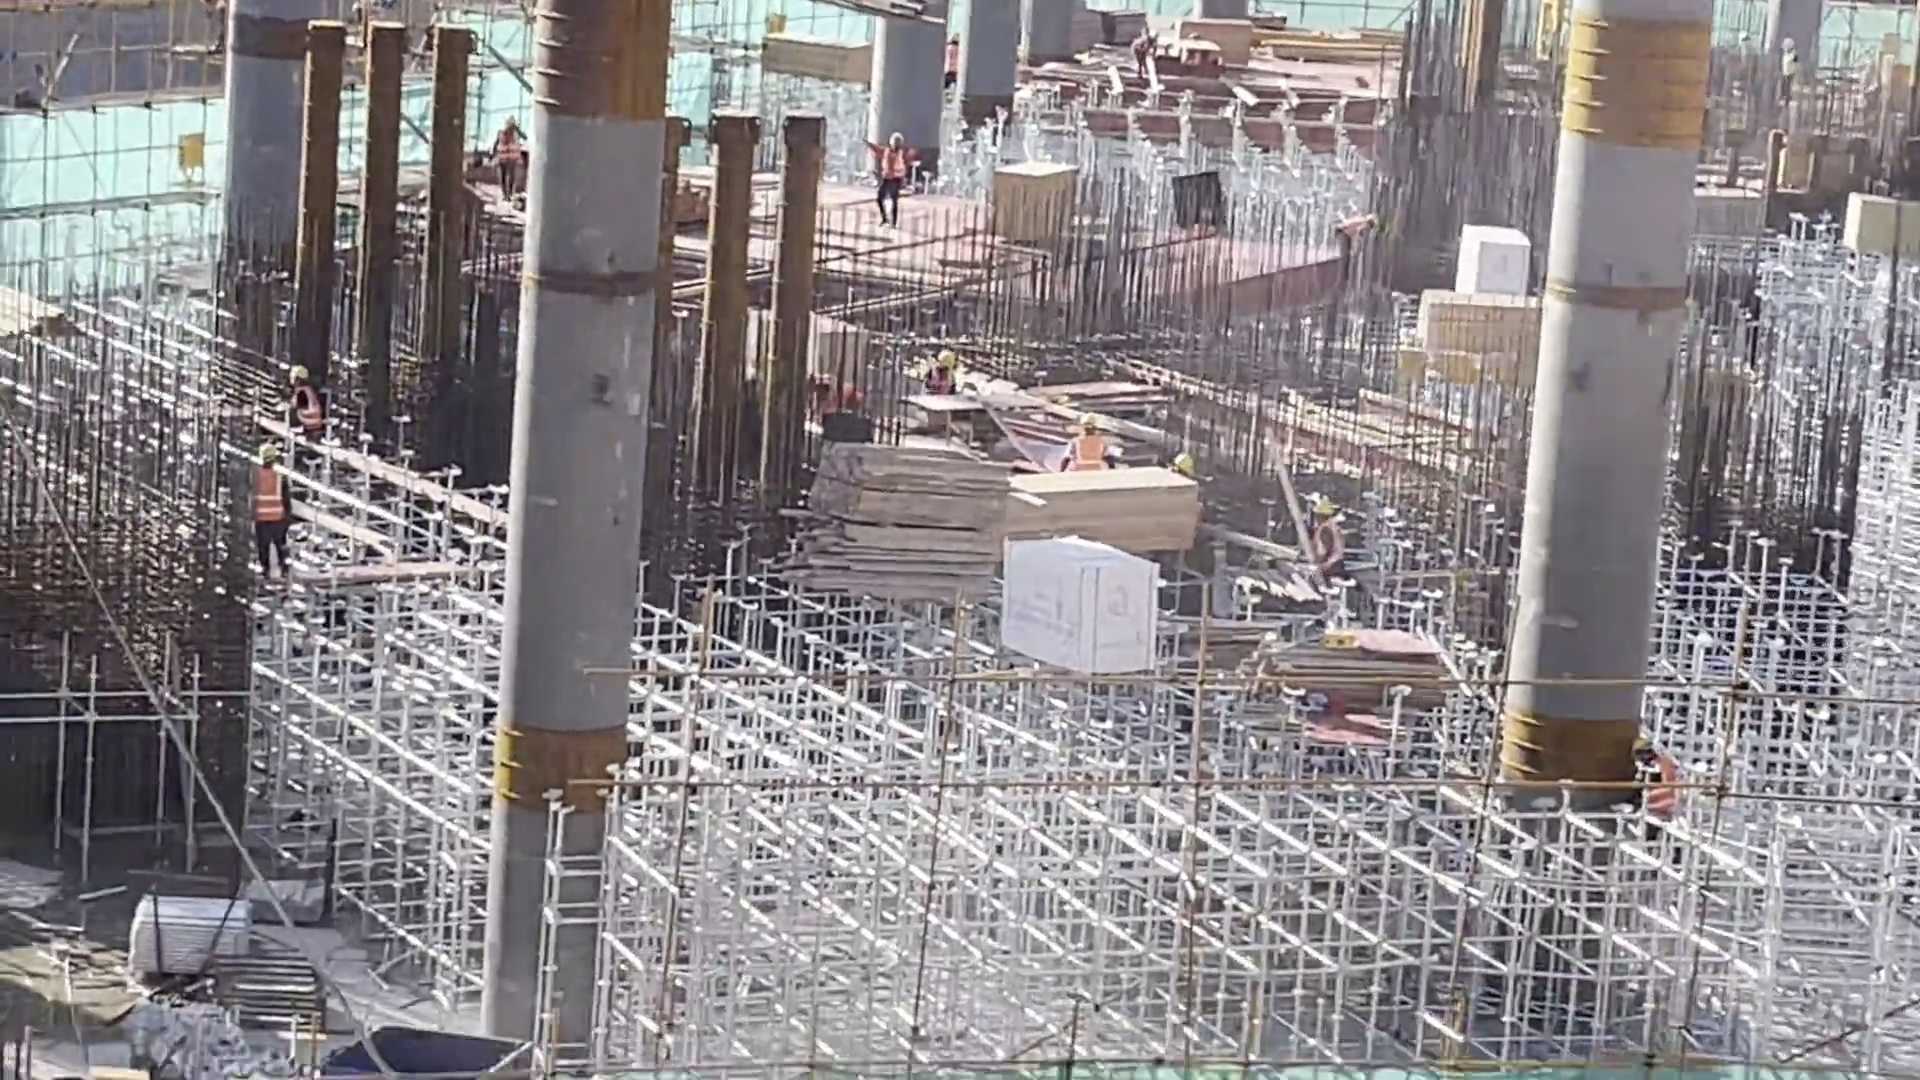board: (1264, 627, 1463, 724)
cutter: (905, 378, 1047, 448)
ebox: (174, 132, 206, 191)
helmet: (1170, 452, 1195, 474), (1308, 498, 1337, 515), (260, 442, 279, 463), (1632, 737, 1653, 754), (288, 365, 309, 380), (1078, 414, 1099, 428), (936, 350, 953, 365)
hopper: (320, 1011, 540, 1080)
person: (255, 442, 299, 580), (860, 134, 915, 227), (1633, 734, 1681, 823), (1304, 498, 1345, 589), (485, 120, 527, 200), (1060, 413, 1117, 471), (286, 368, 328, 446), (924, 347, 955, 397), (1133, 28, 1160, 73), (1782, 37, 1800, 104), (944, 34, 958, 87)
scaffold: (120, 888, 256, 978)
vest: (1642, 756, 1679, 815), (1308, 521, 1342, 573), (254, 469, 285, 528), (1072, 432, 1106, 470), (291, 388, 320, 429), (877, 147, 908, 183), (494, 130, 524, 164)
wood: (794, 428, 1003, 614), (1012, 459, 1201, 551), (1422, 284, 1540, 391), (988, 157, 1081, 257), (747, 28, 872, 93)
